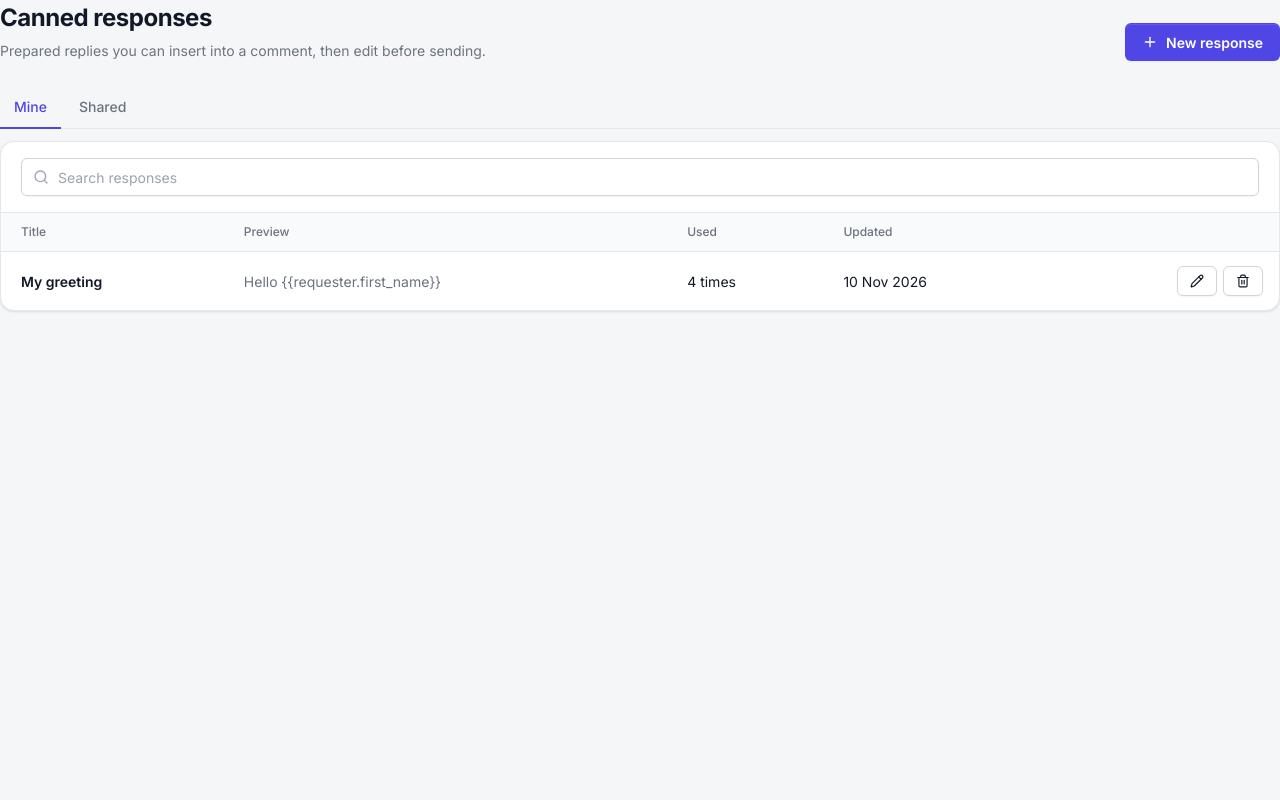
Test case: deleting › asks first; Cancel keeps it, Delete removes it and says so
Step 1. Click the button named "Delete My greeting" → (1243,281), box [1223,266,1263,296]
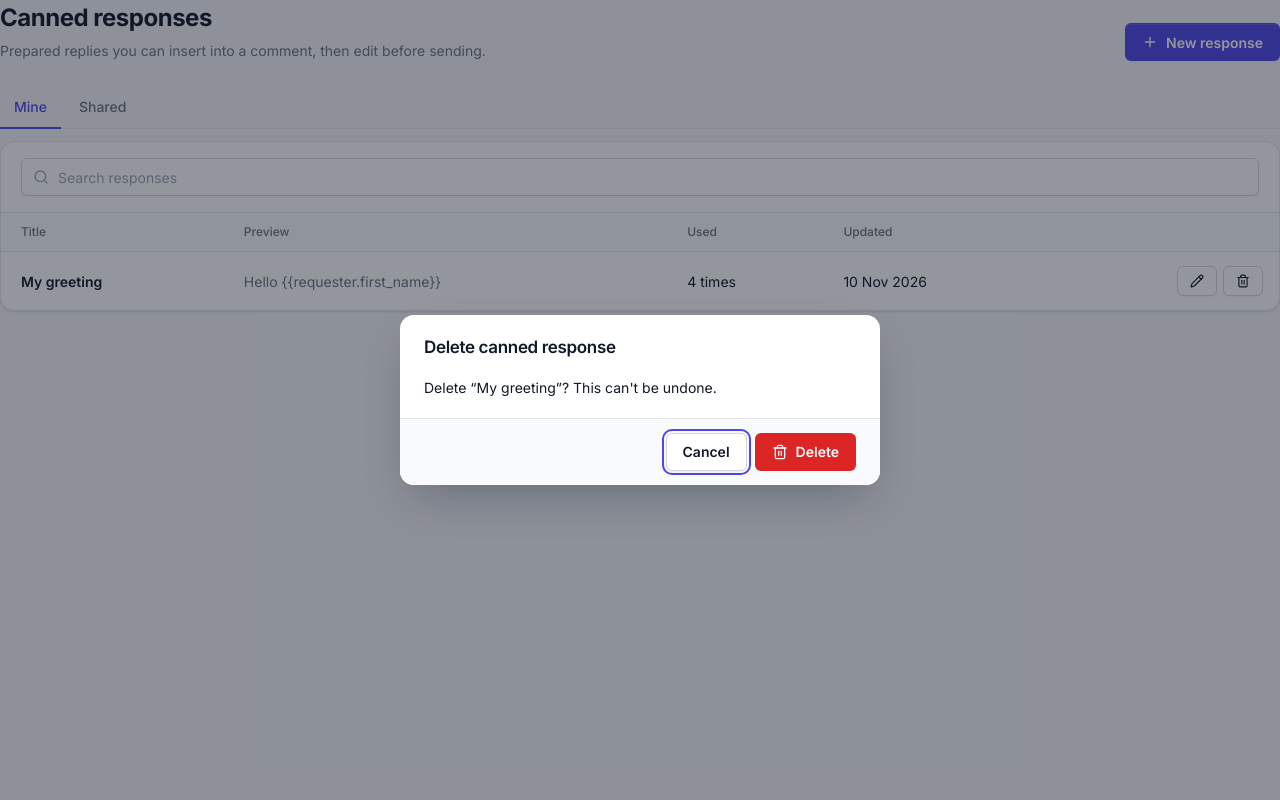
Result: the dialog "Delete canned response" shows "Delete “My greeting”? This can't be undone." at [424,379,717,396]
Step 2. Click the button "Cancel" → (706,452), box [666,433,746,471]
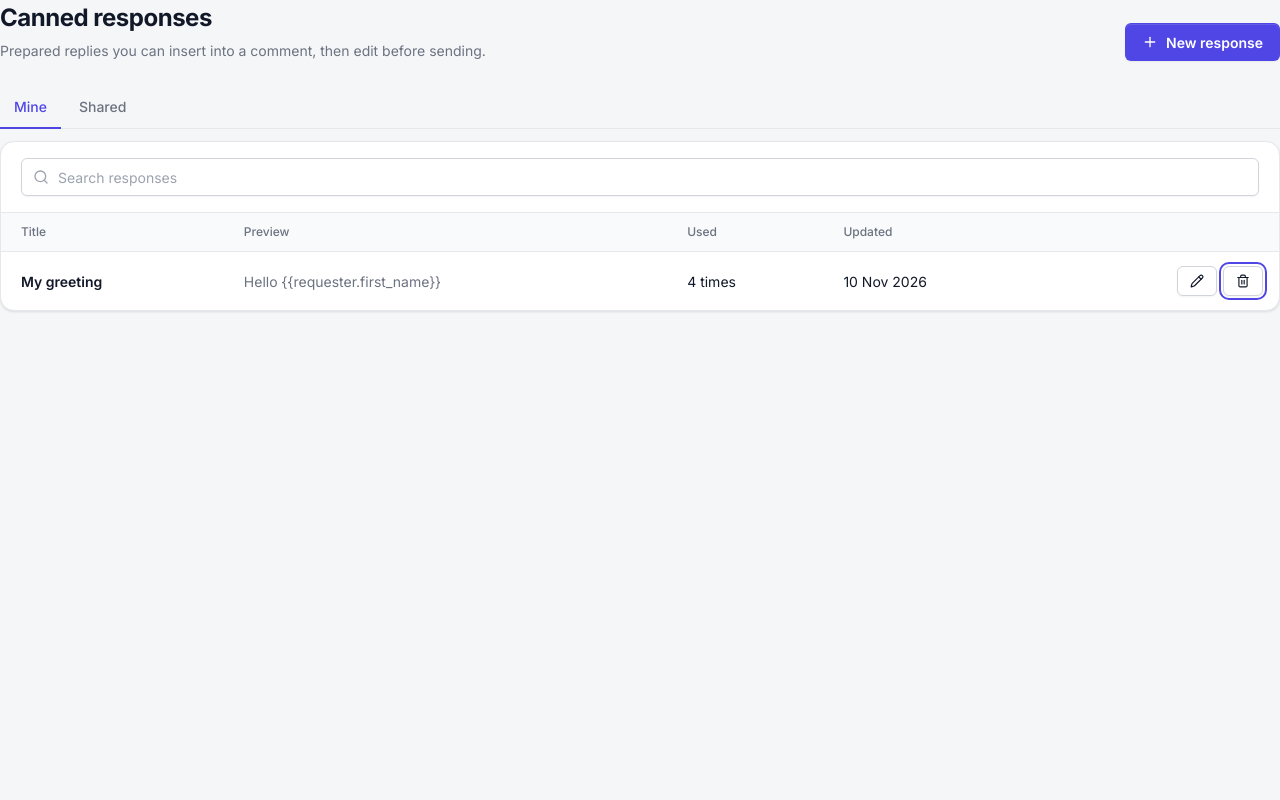
Step 3. Click the button named "Delete My greeting" → (1243,281), box [1223,266,1263,296]
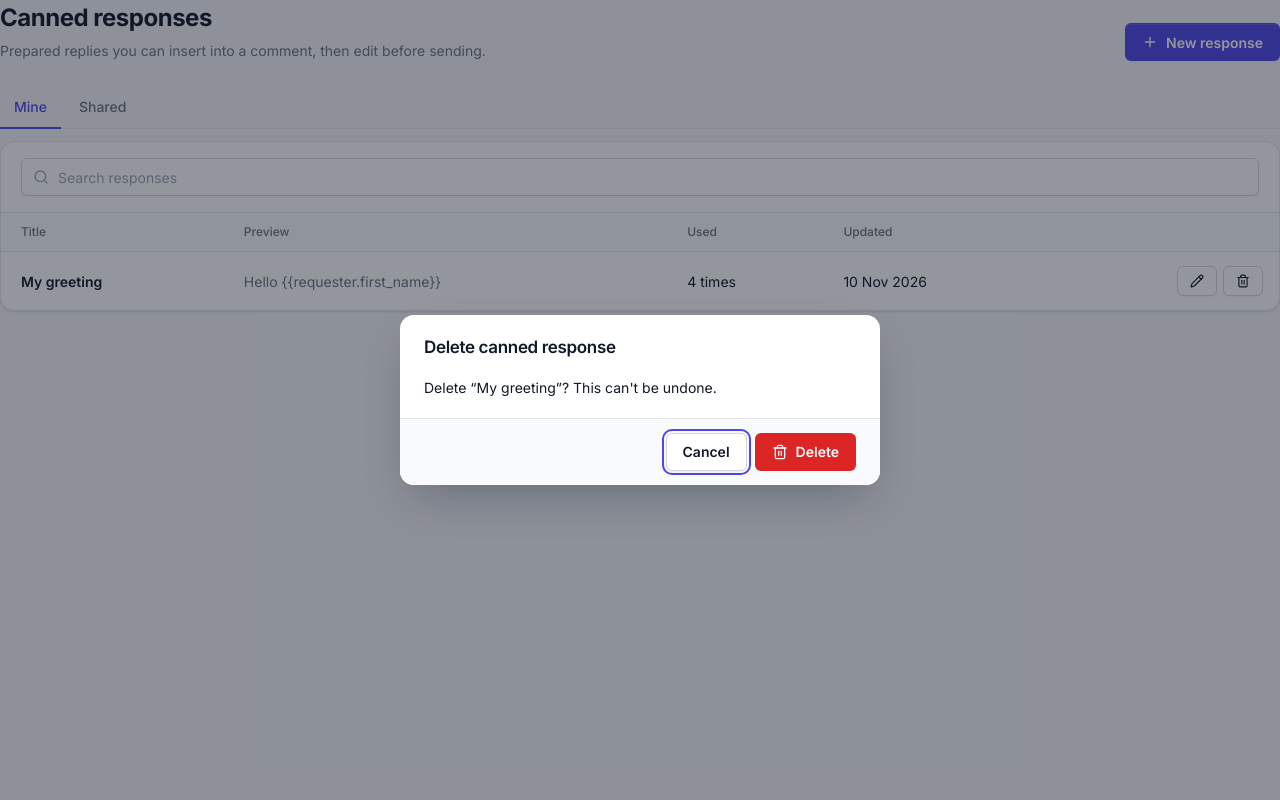
Step 4. Click the button "Delete" → (805,452), box [755,433,856,471]
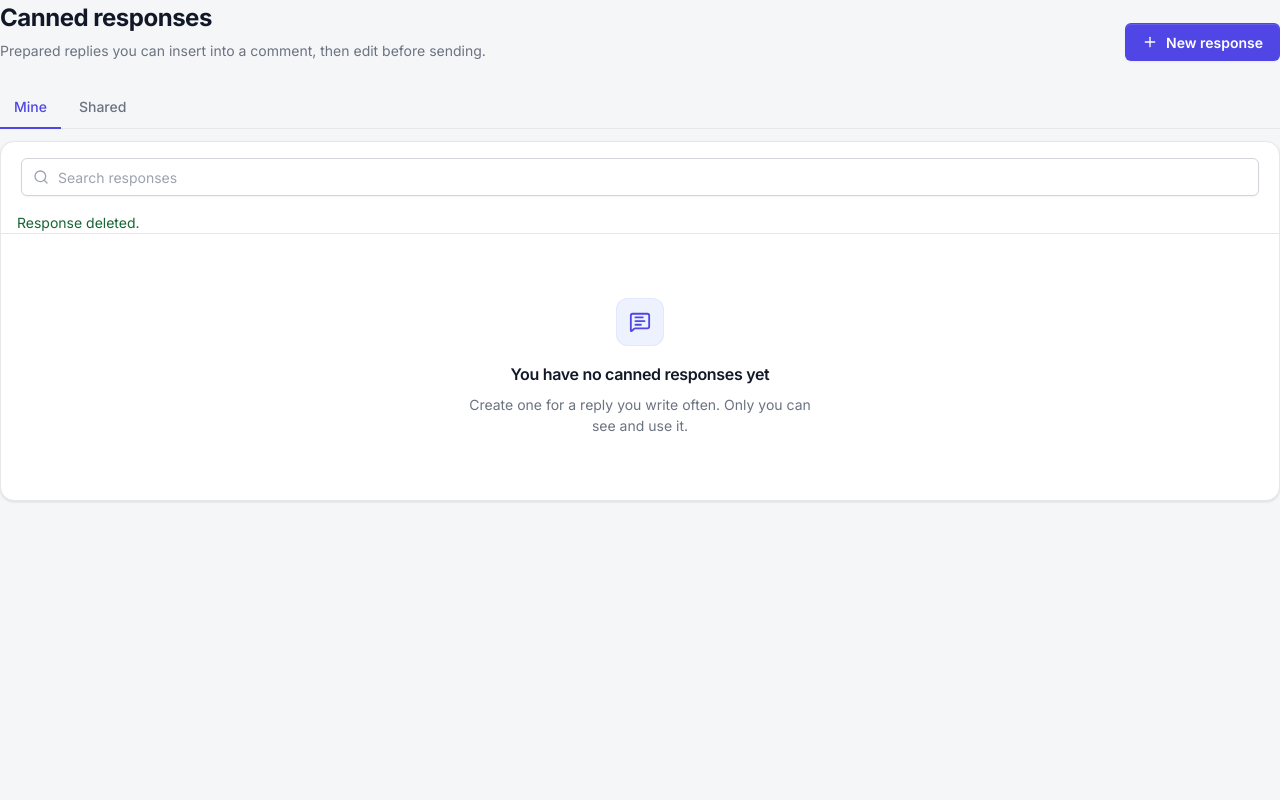
Result: the text "Response deleted." is shown at [17,214,140,231]
Result: the heading "You have no canned responses yet" is shown at [511,362,769,386]
